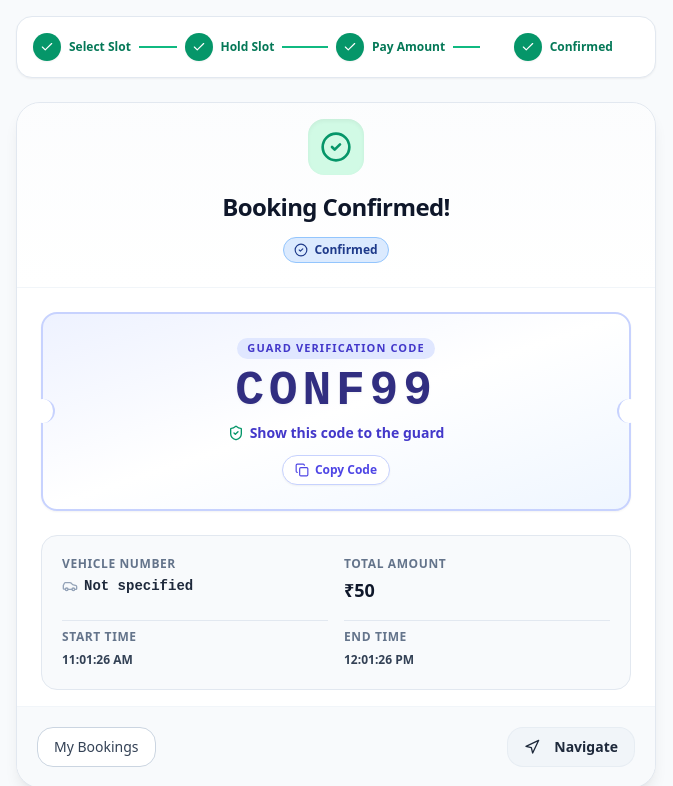
Test: Stage E5: Booking / Checkout, My Bookings, Login / Signup Redesign › Booking Confirmation UI & Ticket Presentation › renders confirmed booking ticket with large code, shield icon, and copy button
Expected: the text with test id "booking-code" reads "CONF99", [235,364,437,418]
Expected: the text "Guard Verification Code" is shown, [237,338,435,358]
Click the button with aria-label "copy booking code" at (336, 470), box [282,454,390,484]
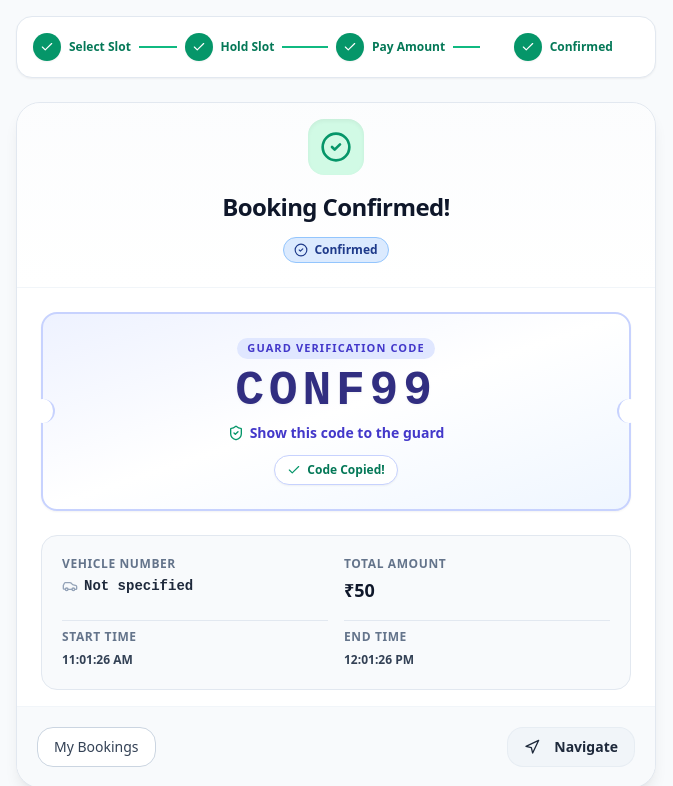
Expected: the text "Code Copied!" is shown, [307,462,385,478]
